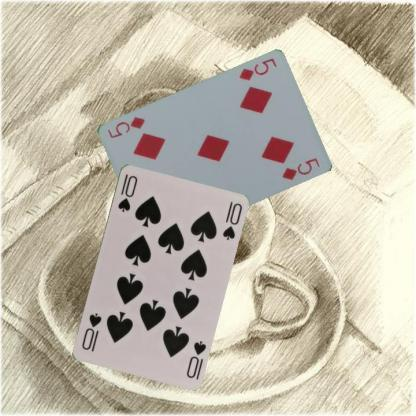10s: (115, 171, 139, 213), (184, 338, 207, 379)
5d: (236, 56, 278, 83)
